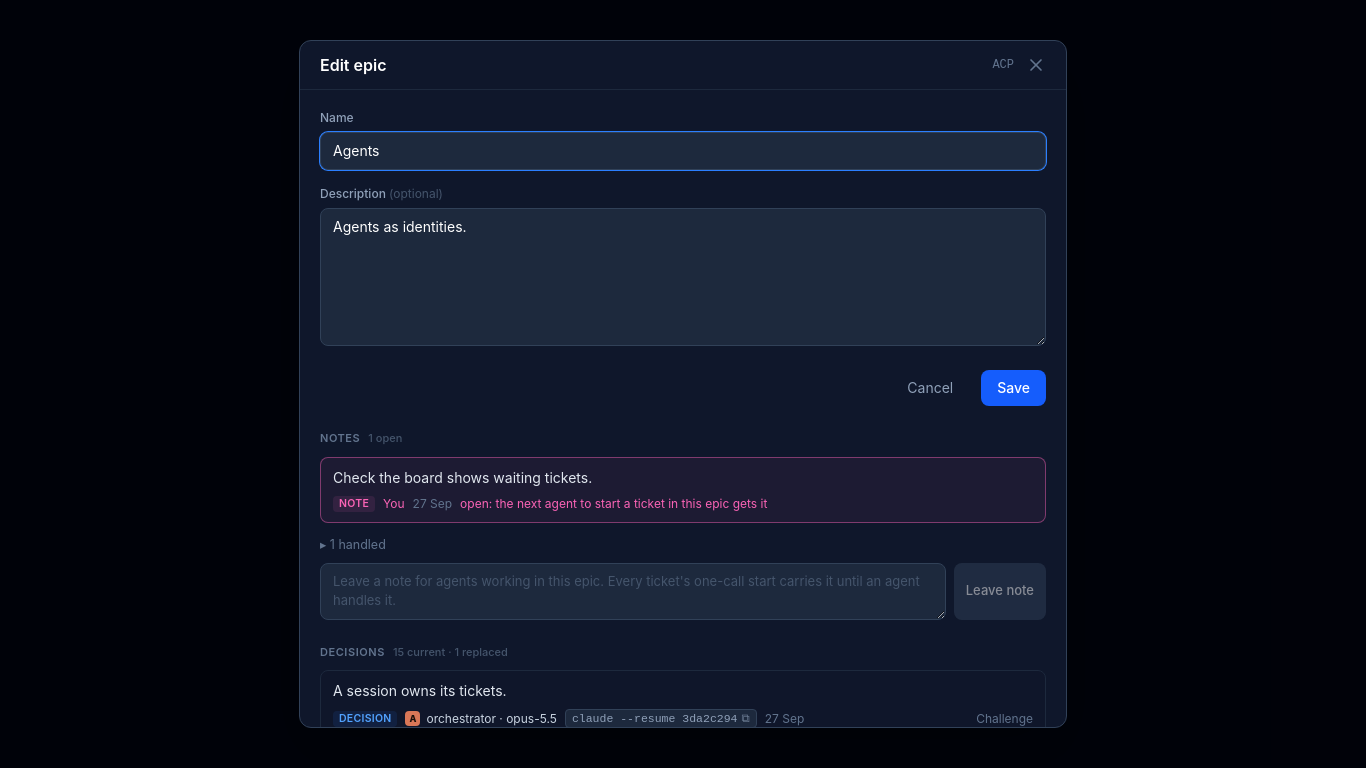
Test: the epic dialog's entries › leaves a note on the epic from the box under Notes
Replace the text in the text box named "Note" with " Aim for 100 ms. " at {"x": 633, "y": 591}, box x1=320 y1=562 x2=946 y2=620
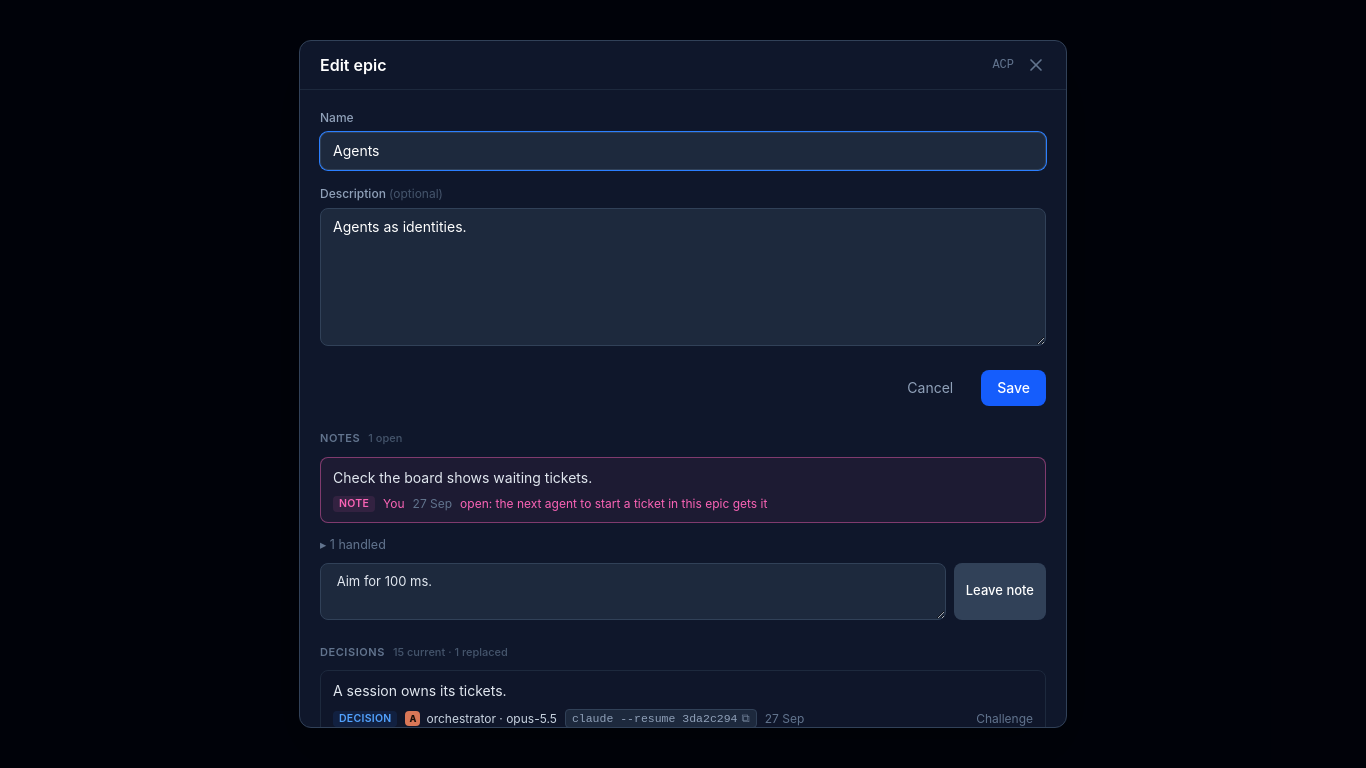
Click the button "Leave note" at {"x": 1000, "y": 591}, box x1=954 y1=562 x2=1046 y2=620
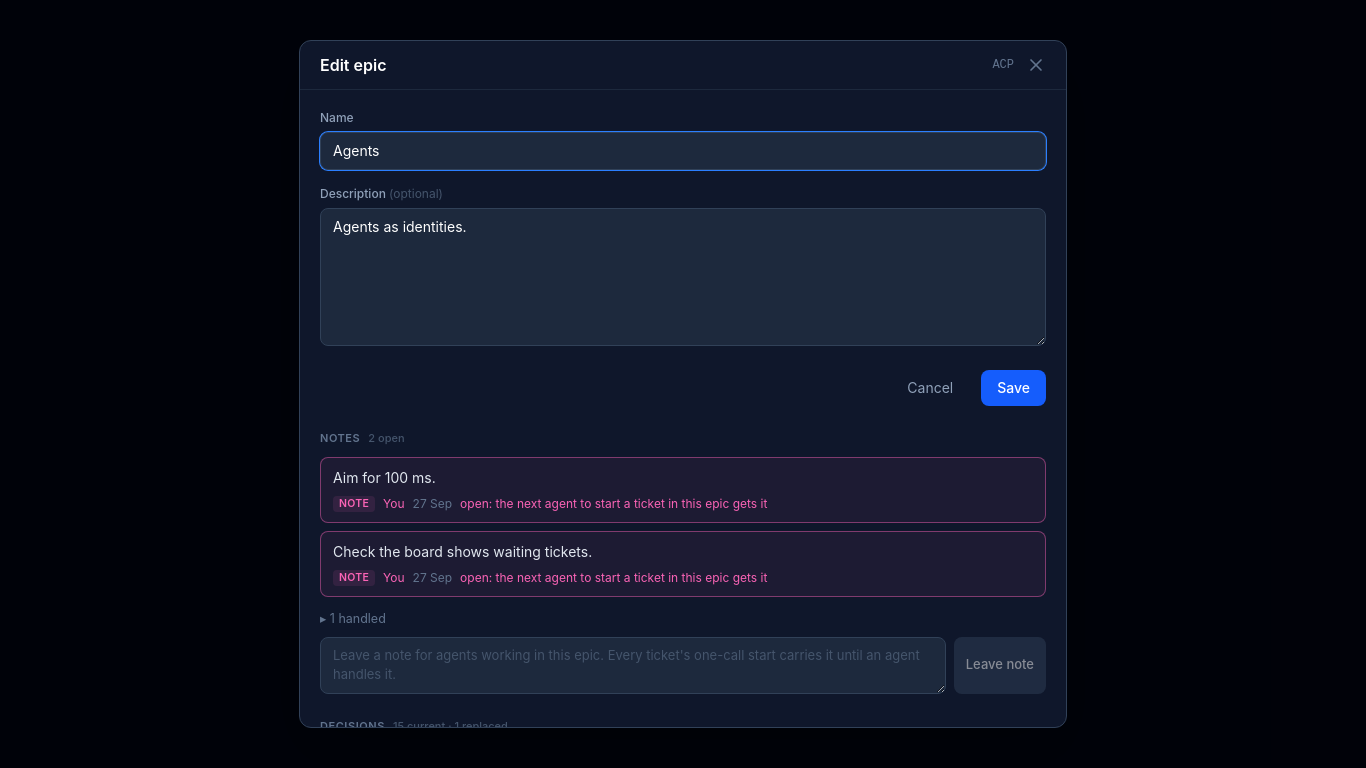
Expected: the text "Aim for 100 ms." is shown, x1=333 y1=468 x2=436 y2=486
